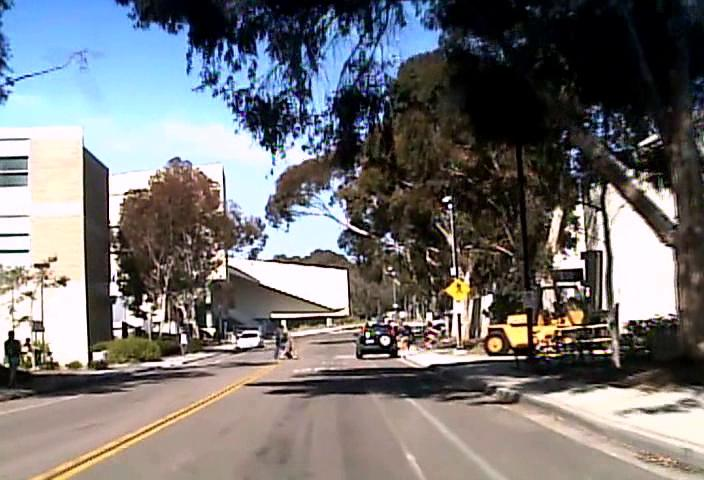pedestrianCrossing: (444, 277, 471, 302)
